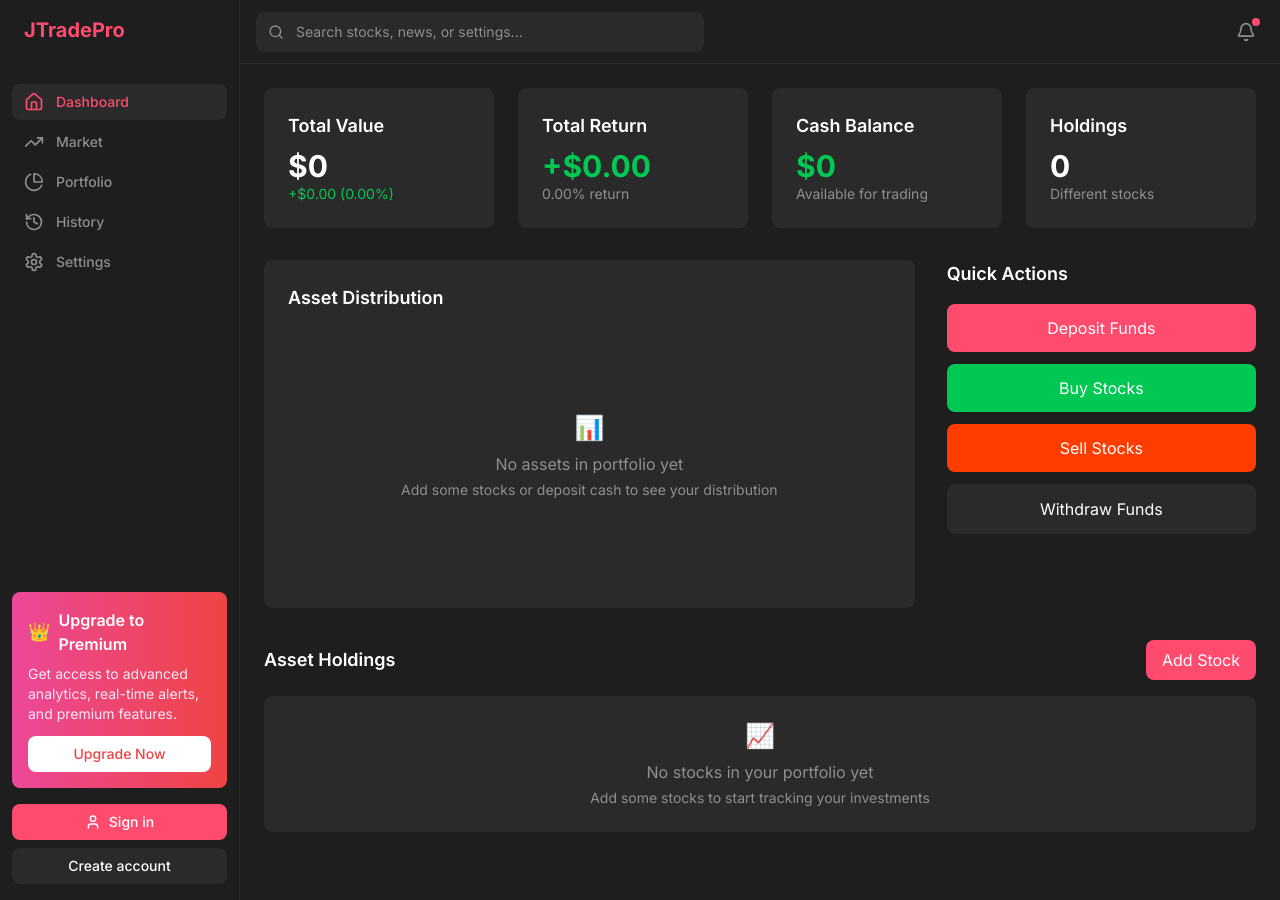
Portfolio Page › Quick Actions › should open add stock modal when buy button is clicked
Click the button "Buy Stocks" at (1101, 388), box x1=947 y1=364 x2=1256 y2=412
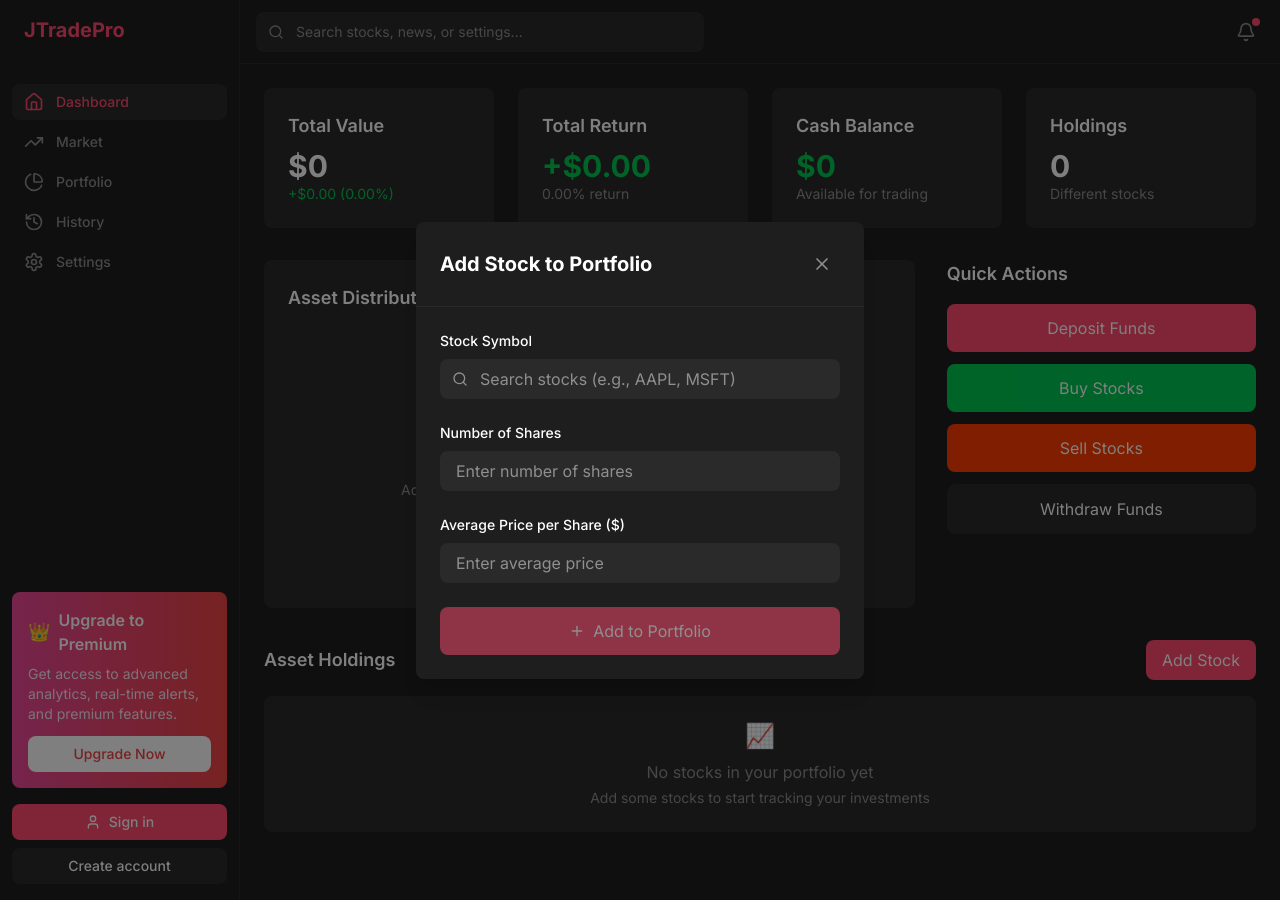
Check: the heading "Add Stock to Portfolio" is shown, box x1=440 y1=250 x2=652 y2=278
